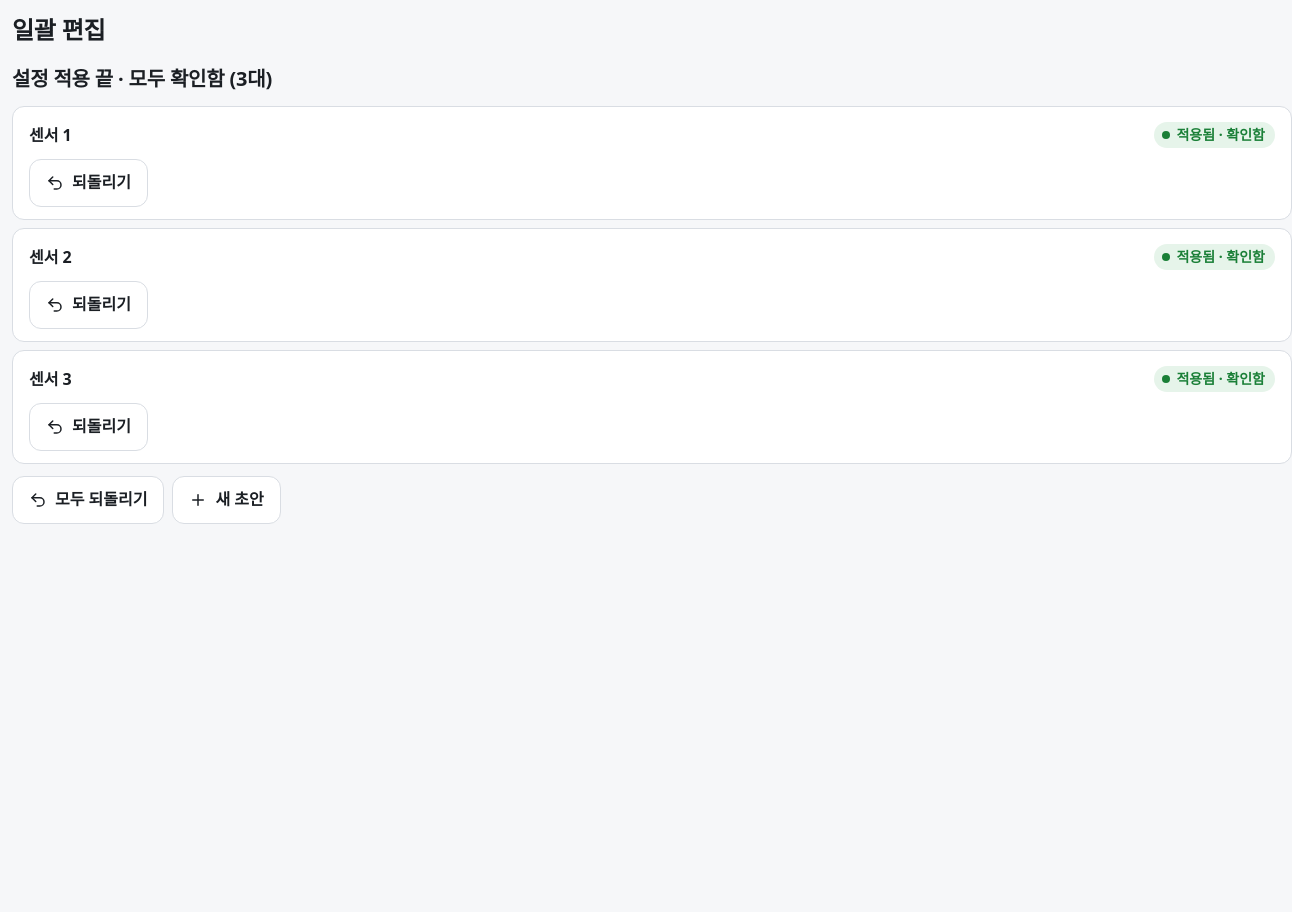
Test: BulkEditScreen: edit › a job of mine shows its results until 새 초안
Check: the heading "설정 적용 끝 · 모두 확인함 (3대)" is shown, box [12,65,272,92]
Click the button "새 초안" at (227, 500), box [172,476,281,524]
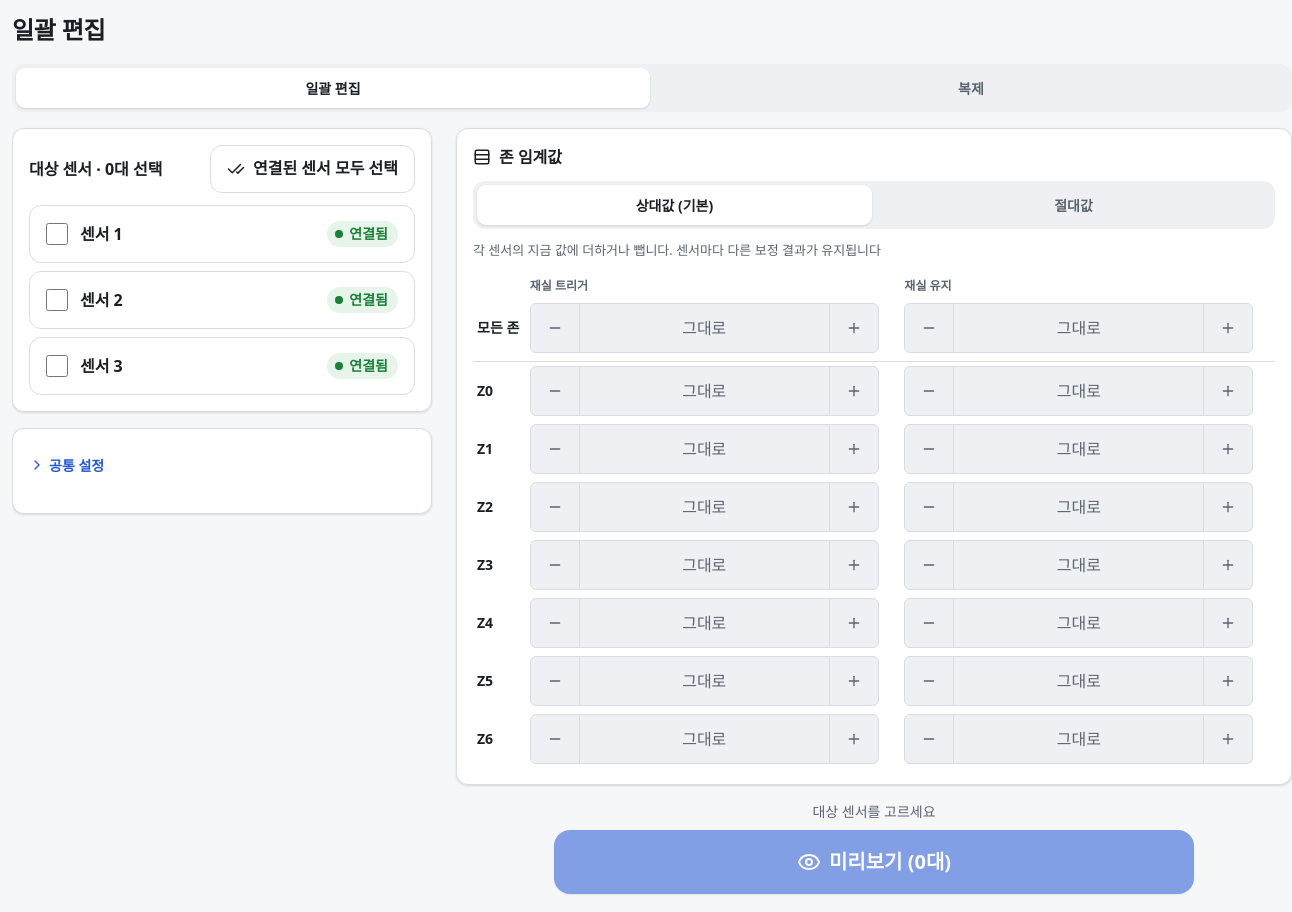
Check: the radio button labelled "상대값 (기본)" is shown, box [477,185,872,225]
